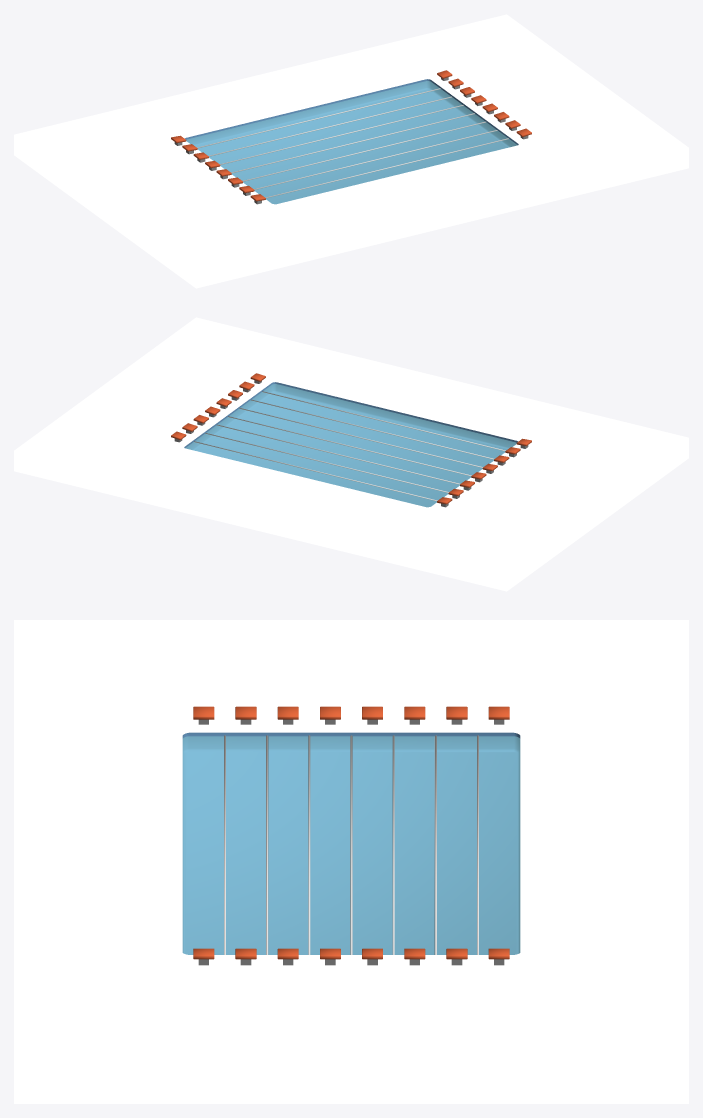
Rendered from pool2.glb.
3 views of the same model, one above another, from view 1: azimuth 30°, elevation 25°; view 2: azimuth 150°, elevation 25°; view 3: azimuth 270°, elevation 25° (orthographic). The views are drawn at different scales.
Visible parts, largest first — view 1: Poolside, Pool, Water, Cylinder, End, Start; view 2: Poolside, Pool, Water, Cylinder, End, Start; view 3: Poolside, Pool, Water, Cylinder, Start, End.
Part boxes in pixels (x1,y1,x2,y2): Poolside: (14, 14, 688, 288); Pool: (185, 79, 518, 204); Water: (186, 81, 517, 204); Cylinder: (197, 88, 508, 198); End: (437, 70, 531, 139); Start: (171, 135, 265, 204); Poolside: (14, 317, 688, 591); Pool: (184, 382, 517, 507); Water: (185, 384, 516, 507); Cylinder: (194, 391, 505, 501); End: (171, 373, 265, 442); Start: (437, 438, 531, 507); Poolside: (14, 620, 688, 1103); Pool: (182, 732, 520, 954); Water: (182, 736, 520, 954); Cylinder: (224, 735, 478, 954); Start: (193, 706, 509, 724); End: (193, 948, 509, 965).
Size of the model in its own units: 100 by 5.22 by 64.
